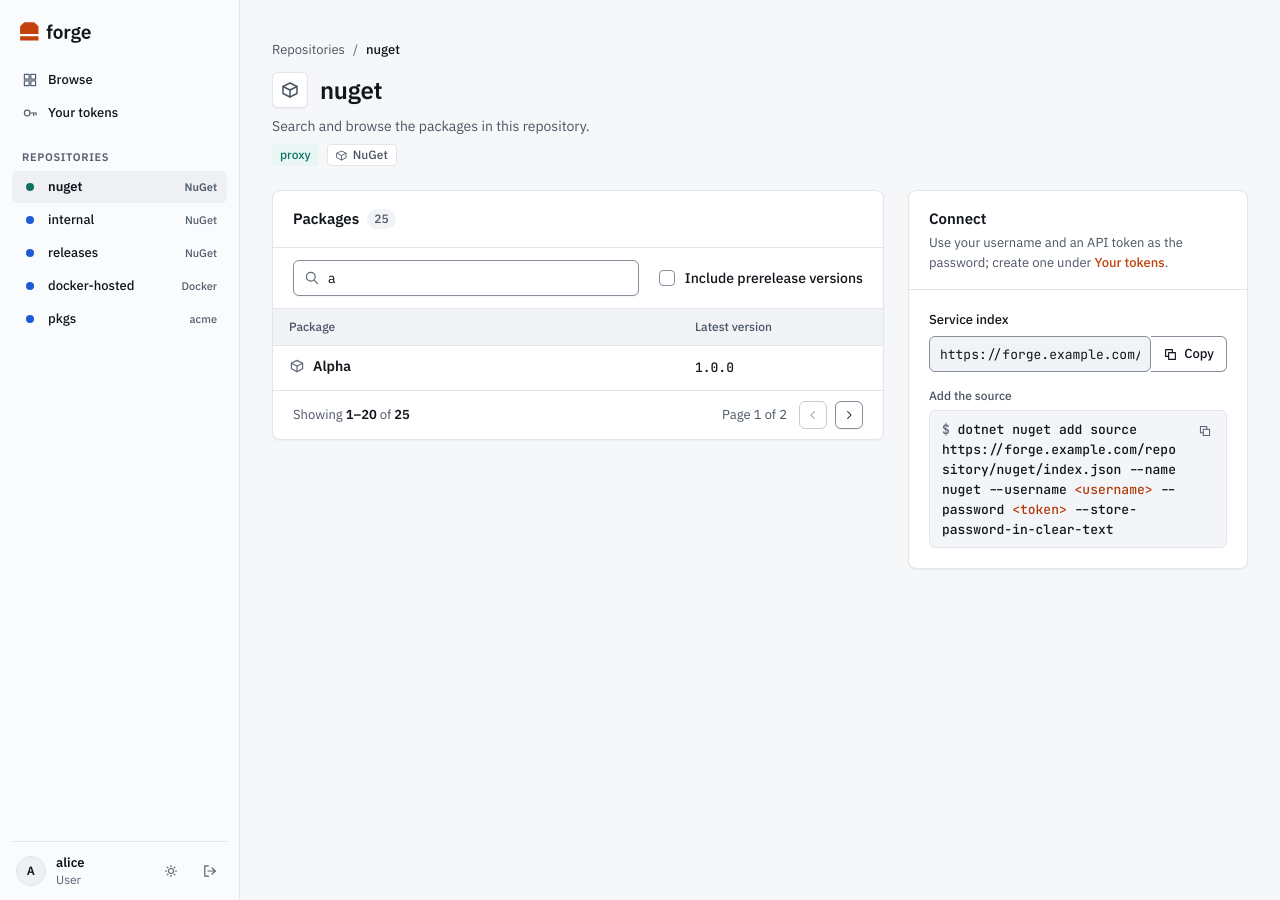
RepoBrowse (per-repo search) › reads back the prerelease and skip it writes on the first page
The image size is (1280, 900).
Expected: the link "Alpha" is shown, [289,356,351,376]
Expected: the checkbox labelled "Include prerelease versions" is not checked, [685,268,863,288]
Click the button named "Next page": (849, 414) [835,400,863,428]
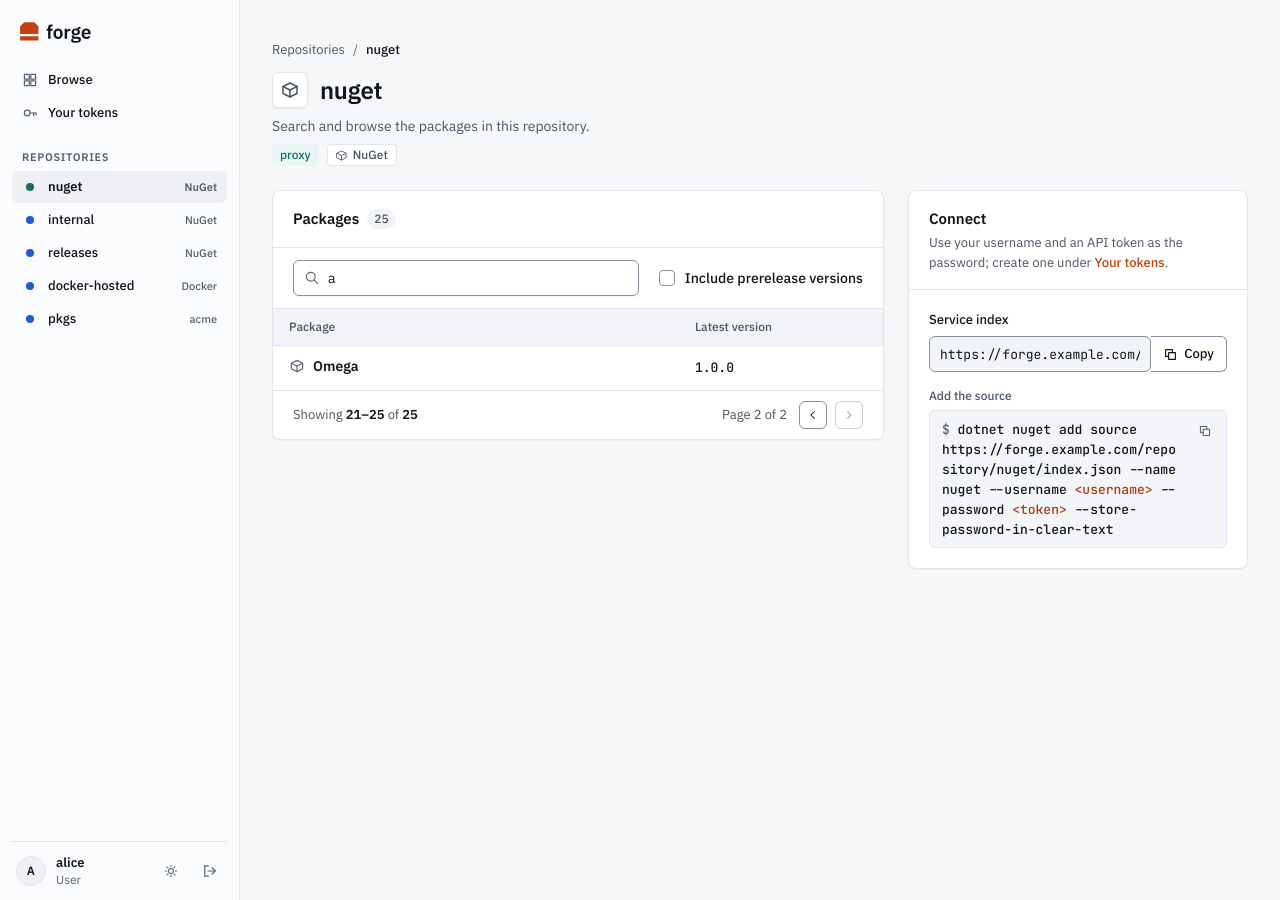
Now the link "Omega" is shown, box [289,356,359,376]
